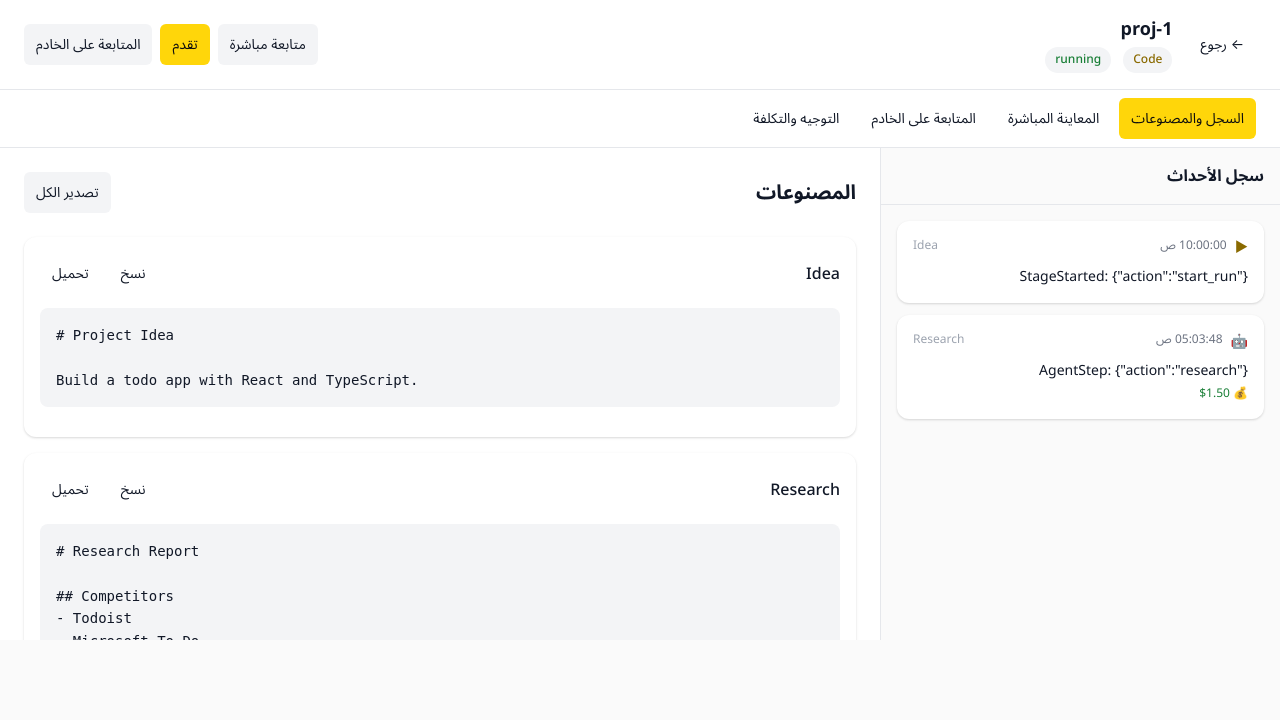
Test: run view mounts › mounts the review & apply panel on the handoff tab
This screenshot has width=1280, height=720.
Click the tab with test id "run-tab-handoff".
click(924, 118)  # box [859, 98, 988, 139]
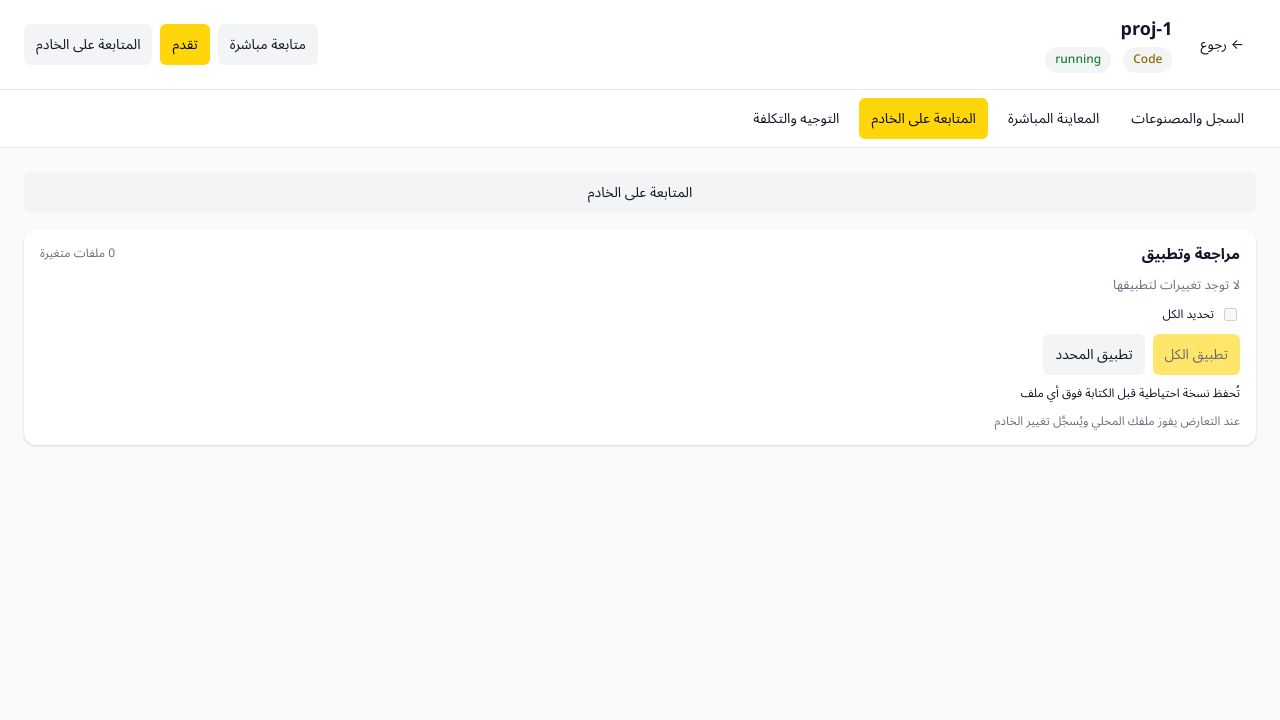
Check: the element with test id "review-apply-panel" is shown, box [24, 229, 1256, 445]
Check: the text "لا توجد تغييرات لتطبيقها" is shown, box [1113, 270, 1240, 298]
Check: the button with test id "review-apply-all" is disabled, box [1153, 334, 1240, 375]
